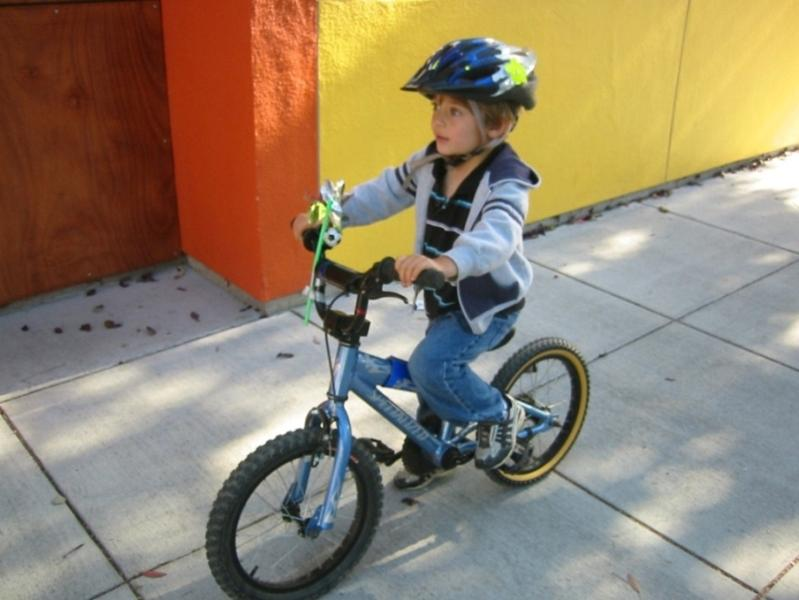person: (289, 35, 537, 496)
